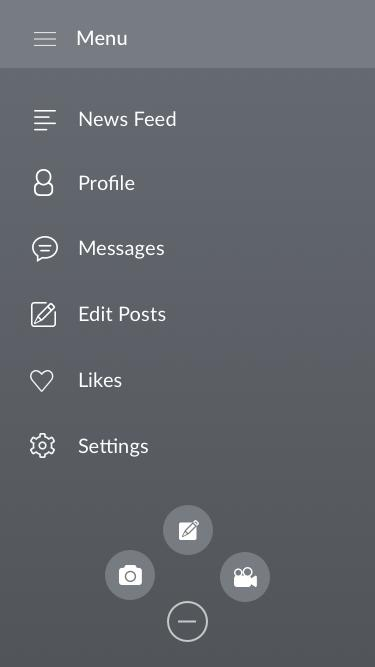Icon: (162, 504, 214, 556), (104, 549, 156, 601), (166, 600, 210, 643), (28, 431, 57, 460), (33, 236, 59, 264), (31, 302, 58, 328), (30, 370, 55, 393), (34, 169, 54, 197), (34, 110, 58, 133), (34, 32, 58, 48)
Image: (219, 551, 271, 603)
Text: (80, 240, 165, 260), (79, 111, 178, 128), (80, 305, 167, 323), (77, 437, 150, 458), (80, 174, 136, 191), (77, 30, 129, 47), (80, 372, 122, 388)
